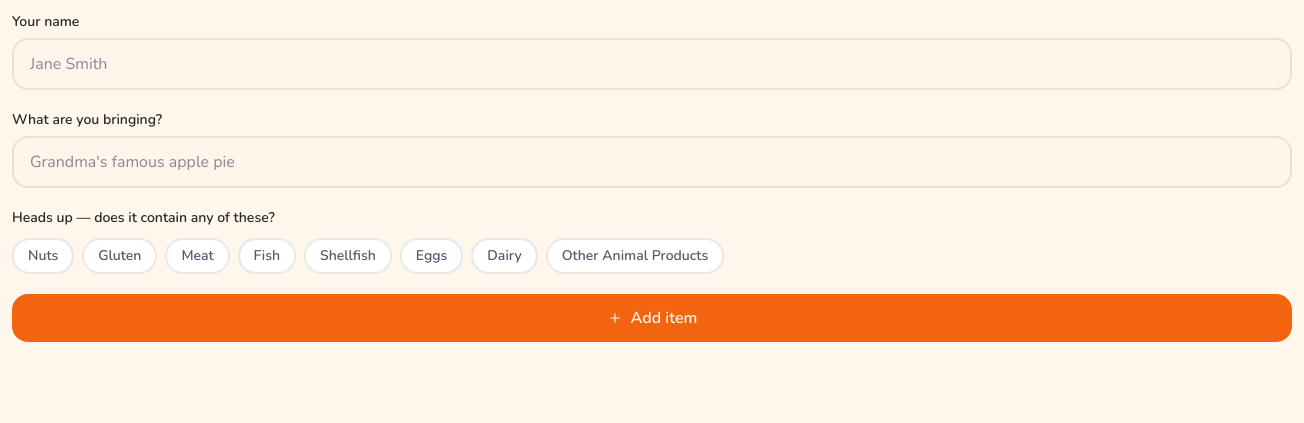
Scenario: SubmitItemForm › shows the API error message and keeps the form usable
Type "Ada" into the field labelled "Your name".
click(652, 64); type("Ada")  # box [12,38,1292,90]
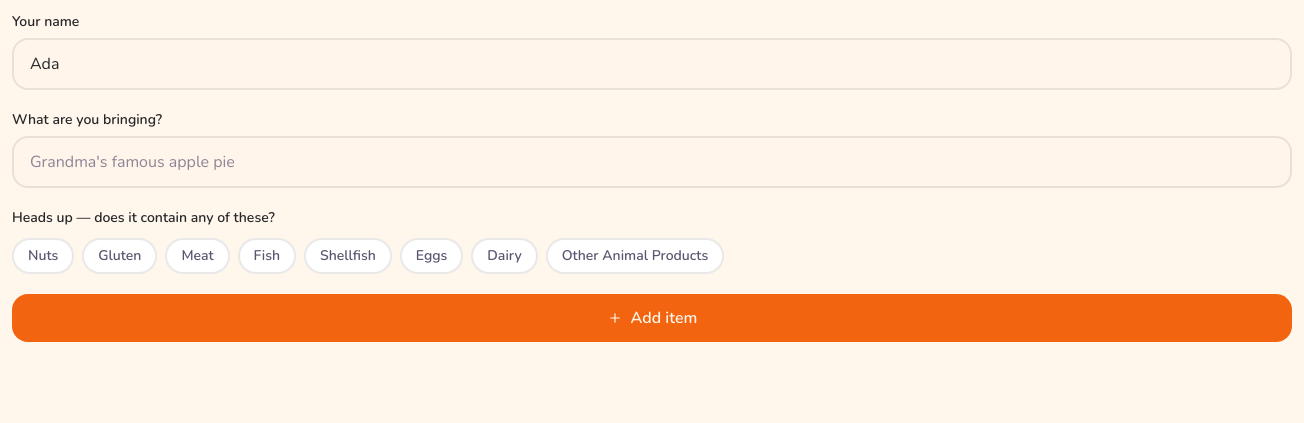
Type "Rolls" into the field labelled "What are you bringing?".
click(652, 162); type("Rolls")  # box [12,136,1292,188]
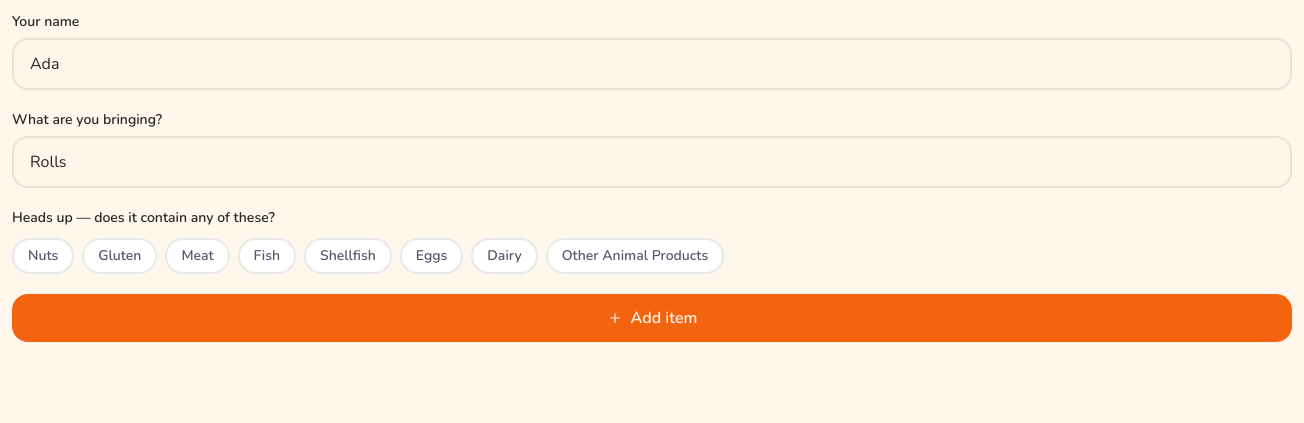
Submit the form named "Add item"
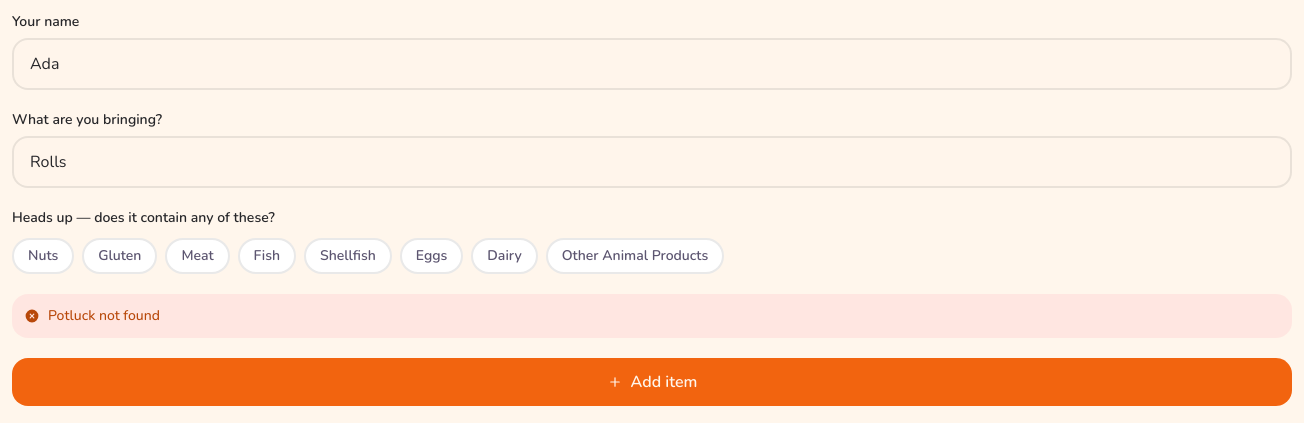
Expected: the button "Add item" is enabled, [12,358,1292,406]
Result: the text "Potluck not found" is shown at [12,294,1292,338]
